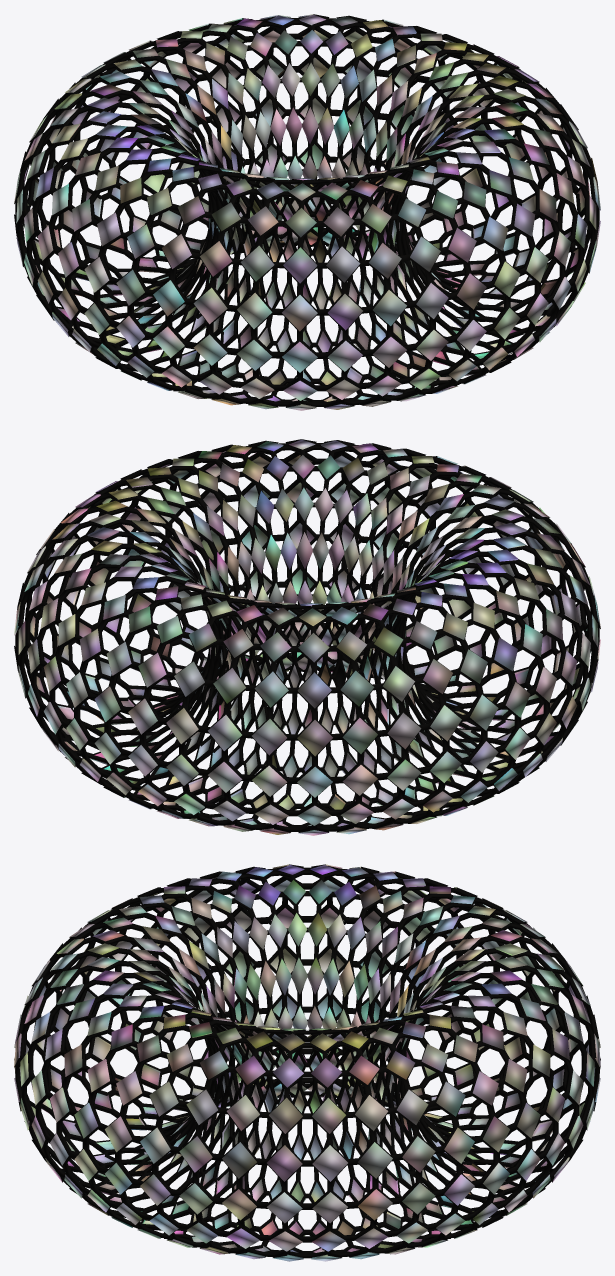
The model's file is abstract.glb.
3 renders of one model, top to bottom at view 1: azimuth 30°, elevation 25°; view 2: azimuth 150°, elevation 25°; view 3: azimuth 270°, elevation 25°, orthographic.
Parts seen in each view (by area): view 1: DualMesh_1; view 2: DualMesh_1; view 3: DualMesh_1.
Boxes of the visible parts, x1,y1,x2,y2 form: DualMesh_1: (14,14,600,410); DualMesh_1: (14,439,600,835); DualMesh_1: (14,864,600,1261).
Size of the model in its own units: 3.02 by 1.24 by 3.02.
2 materials, 1 textured.
